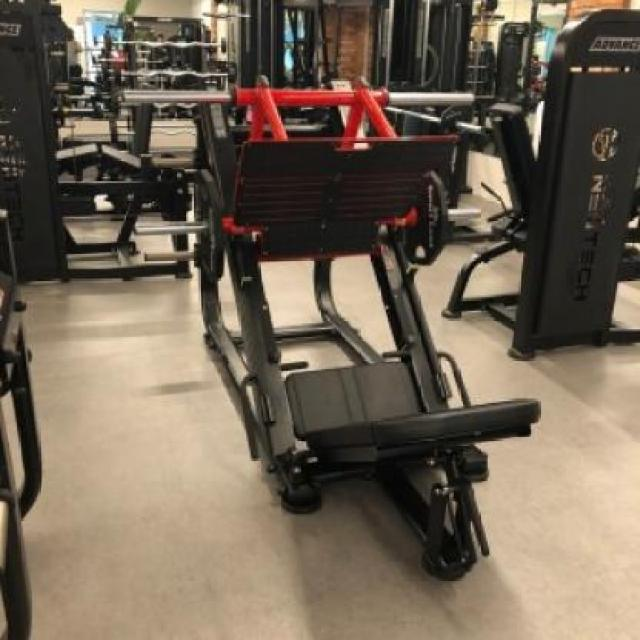leg press: (97, 72, 545, 586)
